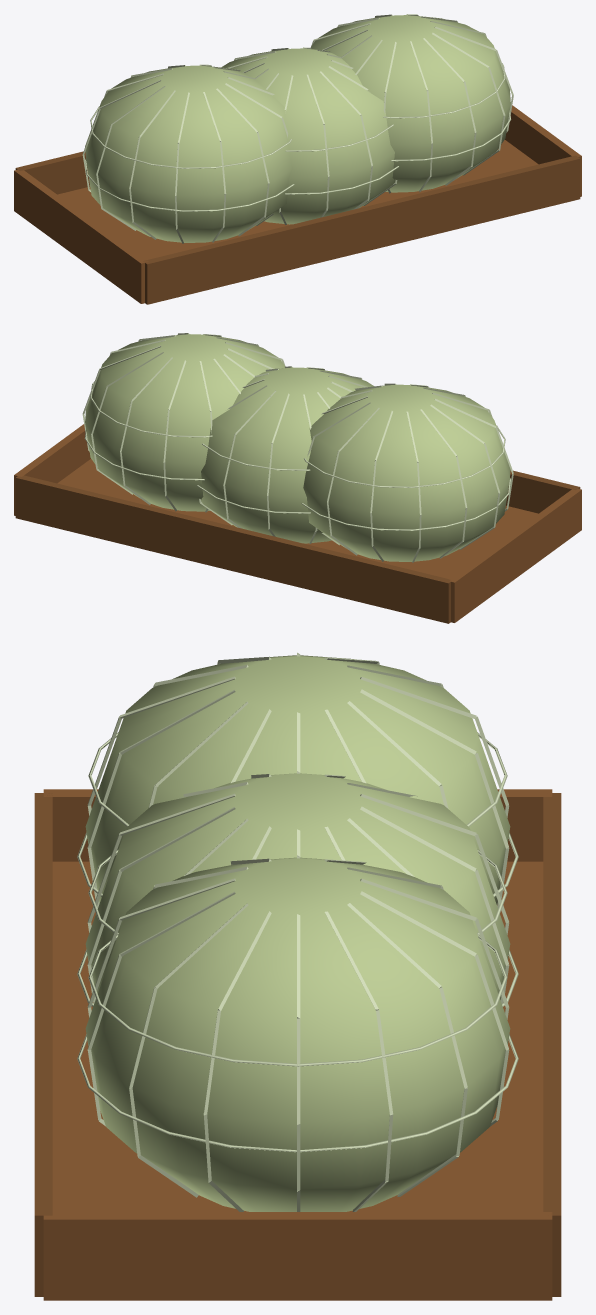
File: Fruit_Melon.fbx
The picture shows the model from 3 angles, top to bottom: view 1: azimuth 30°, elevation 25°; view 2: azimuth 150°, elevation 25°; view 3: azimuth 270°, elevation 25°; orthographic projection. The views are drawn at different scales.
Visible parts, largest first — view 1: Fruit_Melon__Stack, Fruit_Melon; view 2: Fruit_Melon__Stack, Fruit_Melon; view 3: Fruit_Melon__Stack, Fruit_Melon.
Part boxes in pixels (<box>): Fruit_Melon__Stack: <box>14,14,581,304</box>; Fruit_Melon: <box>221,47,398,224</box>; Fruit_Melon__Stack: <box>14,333,581,623</box>; Fruit_Melon: <box>197,366,373,543</box>; Fruit_Melon__Stack: <box>34,652,561,1300</box>; Fruit_Melon: <box>77,771,518,1006</box>.
Size of the model in its own units: 0.4554 by 0.1489 by 0.2356.
